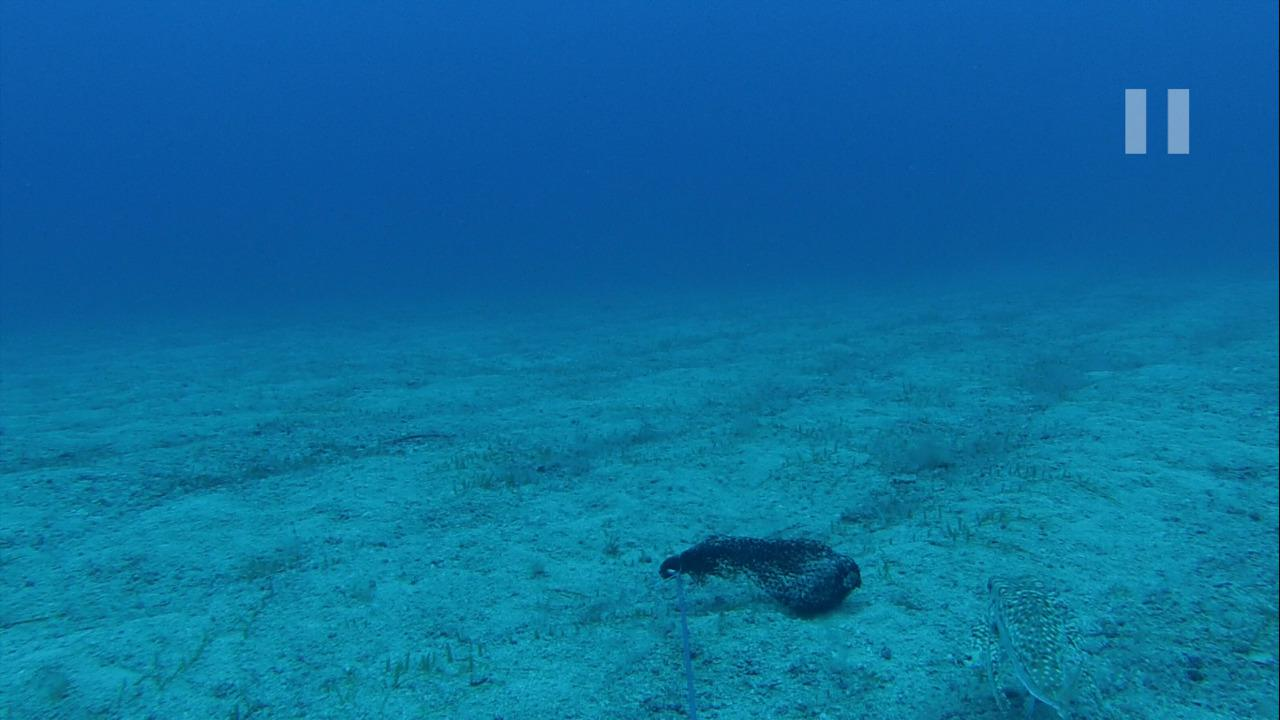dactylopterus: (962, 567, 1100, 719)
